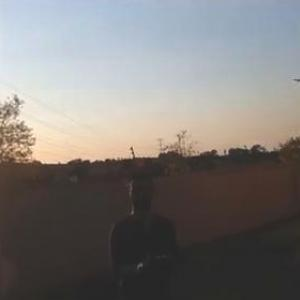follow: (105, 160, 186, 299)
